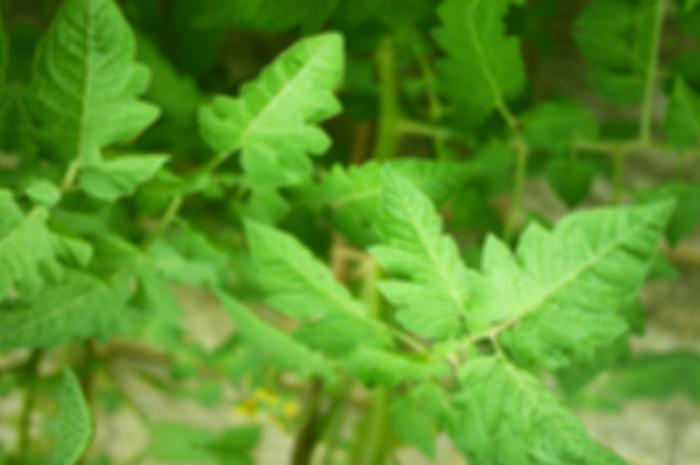Tomato leaf: (15, 0, 212, 234), (471, 173, 674, 389), (338, 148, 514, 354), (191, 9, 361, 212), (220, 212, 410, 367), (449, 338, 637, 465), (0, 245, 138, 375), (201, 276, 350, 379)
